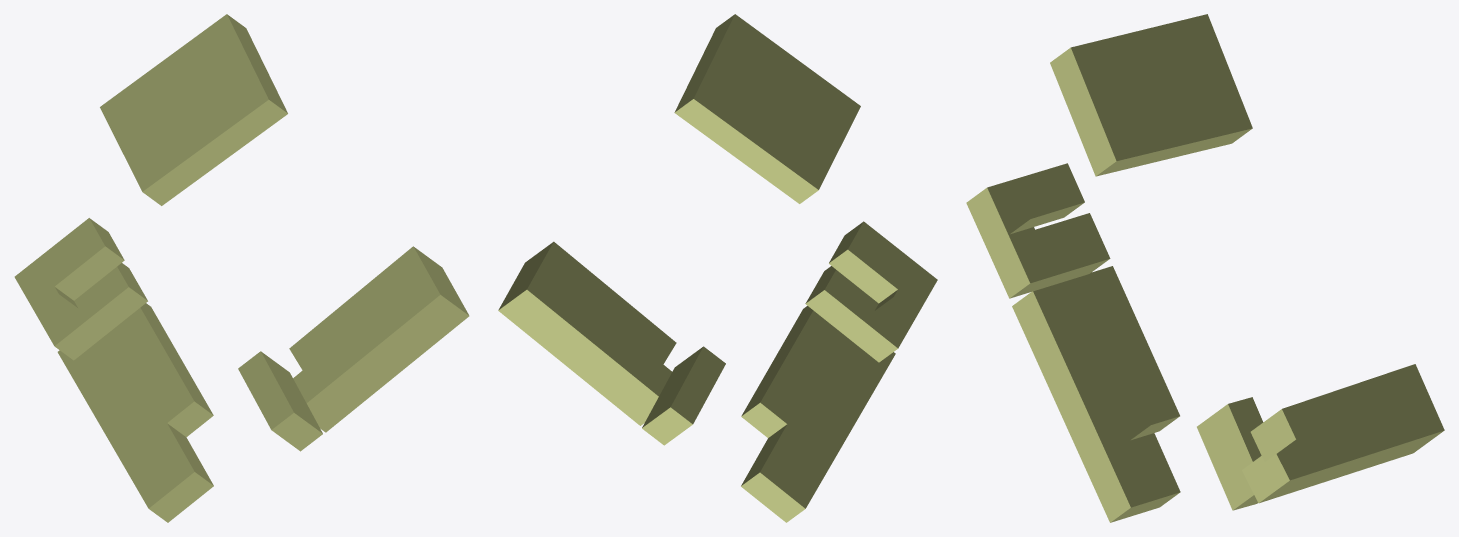
3 renders of one model, left to right at view 1: azimuth 30°, elevation 25°; view 2: azimuth 150°, elevation 25°; view 3: azimuth 330°, elevation 25°, orthographic. The views are drawn at different scales.
Parts seen in each view (by area): view 1: 0_1_0_2_0_0_2_3; view 2: 0_1_0_2_0_0_2_3; view 3: 0_1_0_2_0_0_2_3.
Boxes of the visible parts, bbox=[...] form: 0_1_0_2_0_0_2_3: bbox=[14, 14, 469, 522]; 0_1_0_2_0_0_2_3: bbox=[498, 14, 937, 522]; 0_1_0_2_0_0_2_3: bbox=[966, 14, 1444, 522].
Size of the model in its own units: 75.9 by 81.67 by 9.2.
